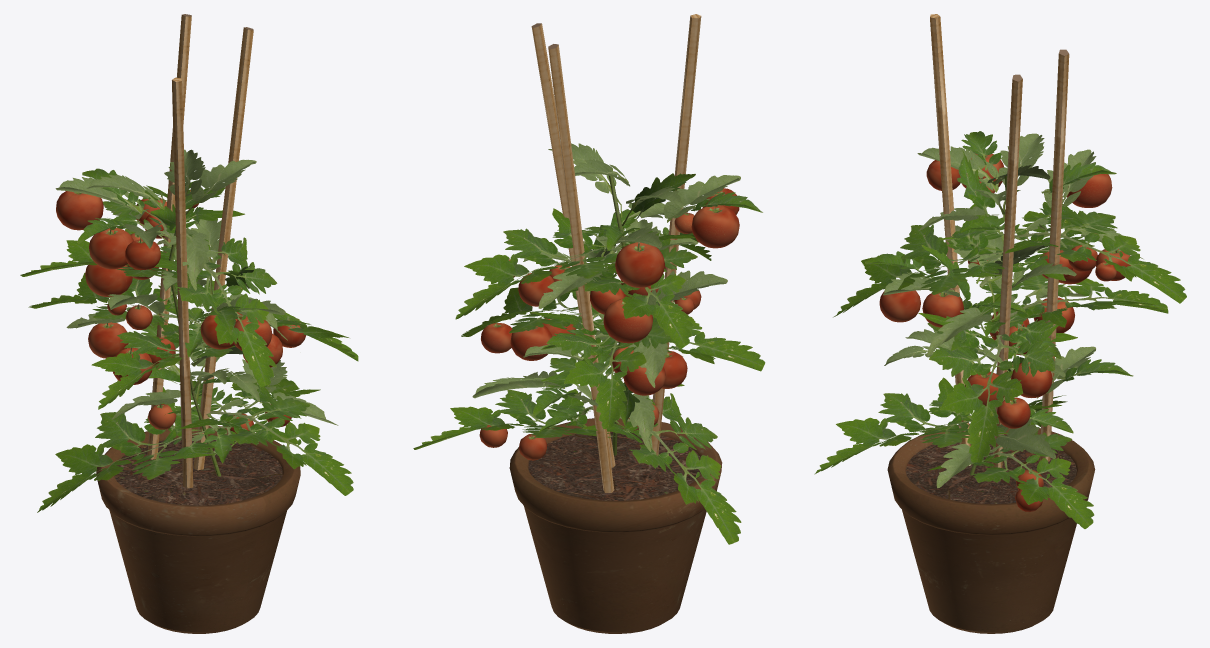
File: SM_Plant_01a.fbx
3 views of the same model, side by side, from view 1: azimuth 30°, elevation 25°; view 2: azimuth 150°, elevation 25°; view 3: azimuth 270°, elevation 25° (orthographic). The views are drawn at different scales.
Visible parts, largest first — view 1: SM_Plant_01a_LOD0; view 2: SM_Plant_01a_LOD0; view 3: SM_Plant_01a_LOD0.
Part boxes in pixels (<box>): SM_Plant_01a_LOD0: <box>20,14,358,633</box>; SM_Plant_01a_LOD0: <box>413,14,765,633</box>; SM_Plant_01a_LOD0: <box>814,14,1186,633</box>.
Size of the model in its own units: 53.19 by 58.34 by 92.87.
1 material, 1 textured.
